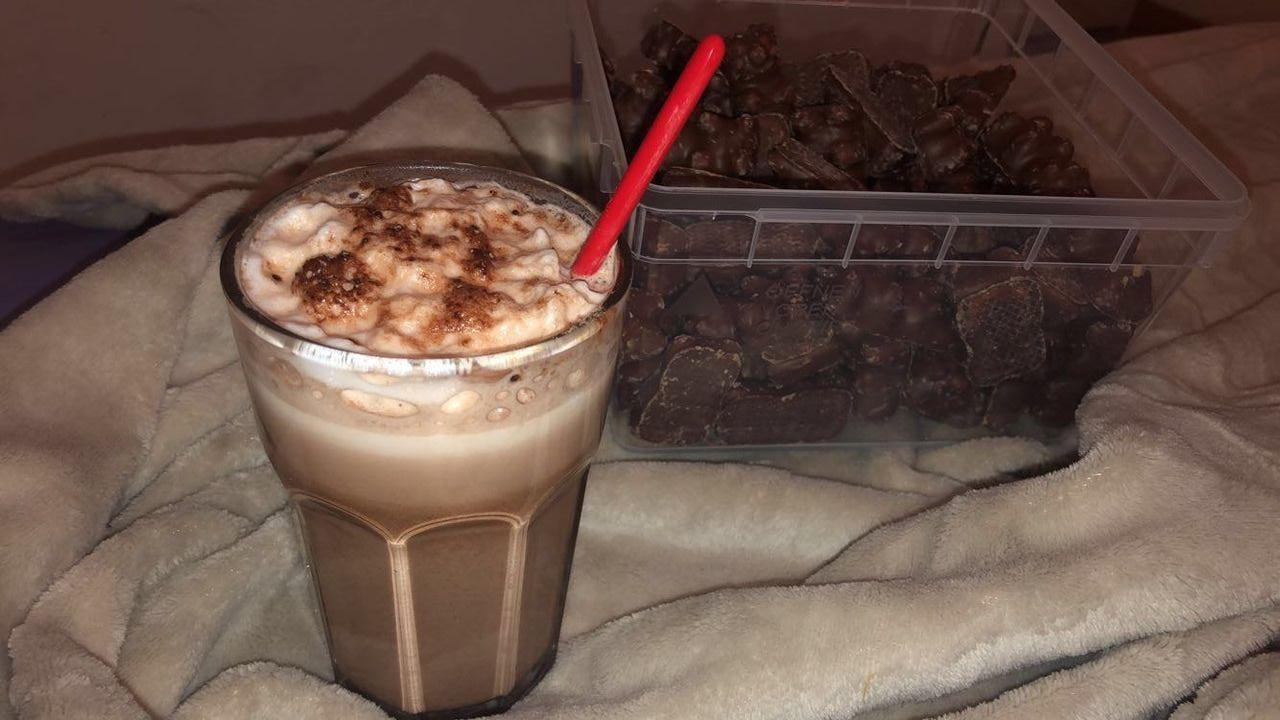glass-normal: (214, 154, 637, 718)
